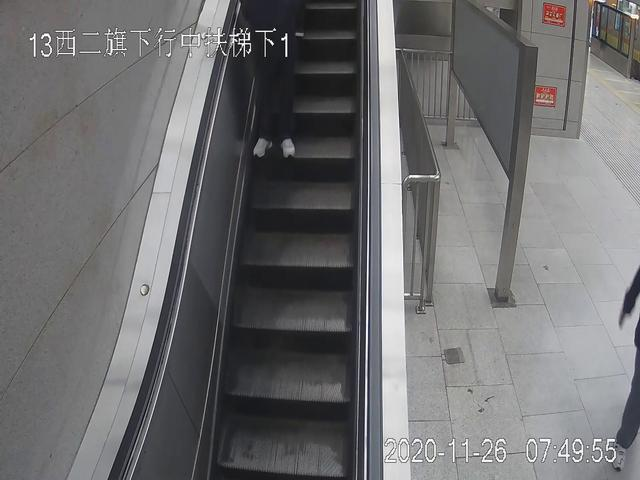person: (241, 1, 301, 163)
